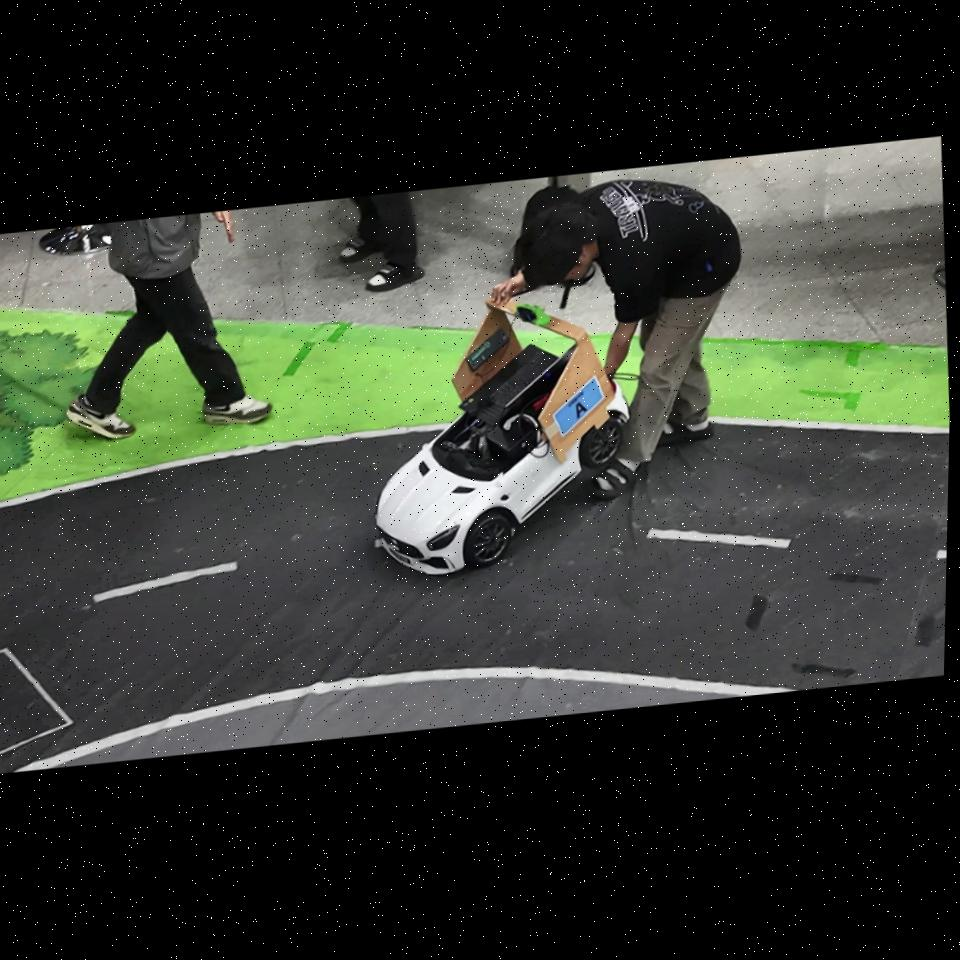broken_line: (92, 562, 237, 602), (646, 528, 791, 548), (936, 549, 947, 559), (376, 538, 383, 548)
